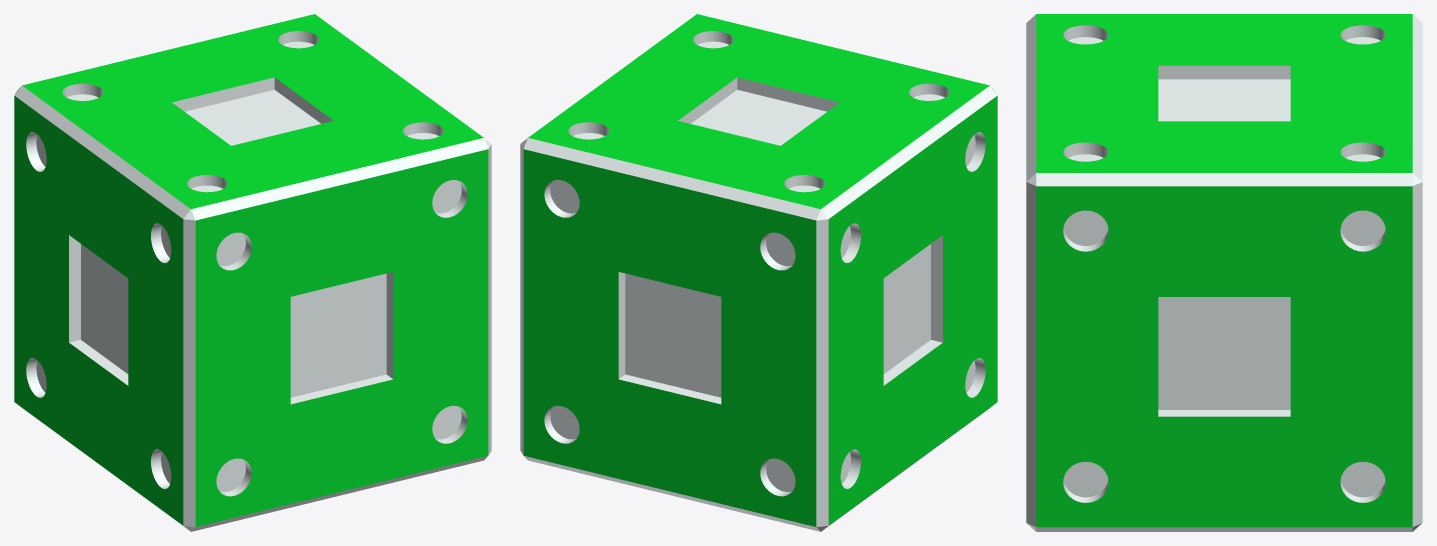
File: scifi_cube1.fbx
The picture shows the model from 3 angles, left to right: view 1: azimuth 30°, elevation 25°; view 2: azimuth 150°, elevation 25°; view 3: azimuth 270°, elevation 25°; orthographic projection. The views are drawn at different scales.
Visible parts, largest first — view 1: Cube; view 2: Cube; view 3: Cube.
Part boxes in pixels (x1,y1,x2,y2): Cube: [14, 14, 491, 531]; Cube: [520, 14, 997, 531]; Cube: [1026, 14, 1422, 531].
Bounding box in the file's own units: 200 × 200 × 200.
